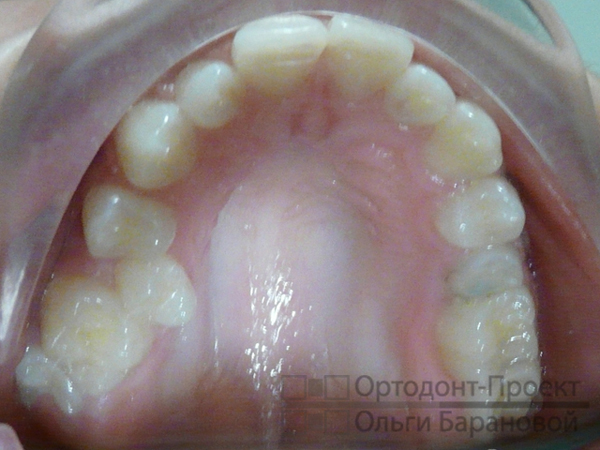UL1BC_healthy: (436, 180, 526, 245)
UL1M_healthy: (438, 302, 543, 370)
UL2BC_healthy: (453, 244, 524, 296)
ULCI_healthy: (329, 18, 410, 98)
ULC_healthy: (430, 107, 504, 175)
ULLI_healthy: (393, 65, 453, 130)
UR1BC_healthy: (89, 188, 176, 256)
UR1M_healthy: (43, 280, 151, 380)
UR2BC_healthy: (119, 258, 198, 325)
URCI_healthy: (237, 18, 324, 94)
URC_healthy: (116, 105, 195, 185)
URLI_healthy: (177, 61, 243, 126)
